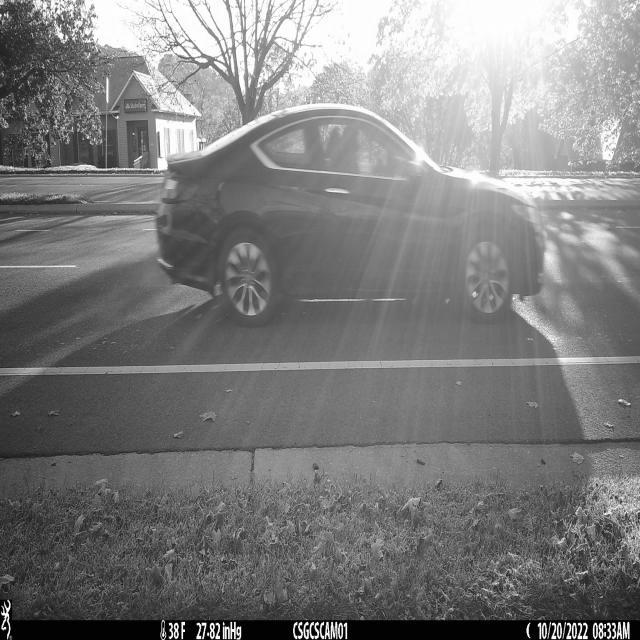Sedan: (158, 104, 546, 325)
